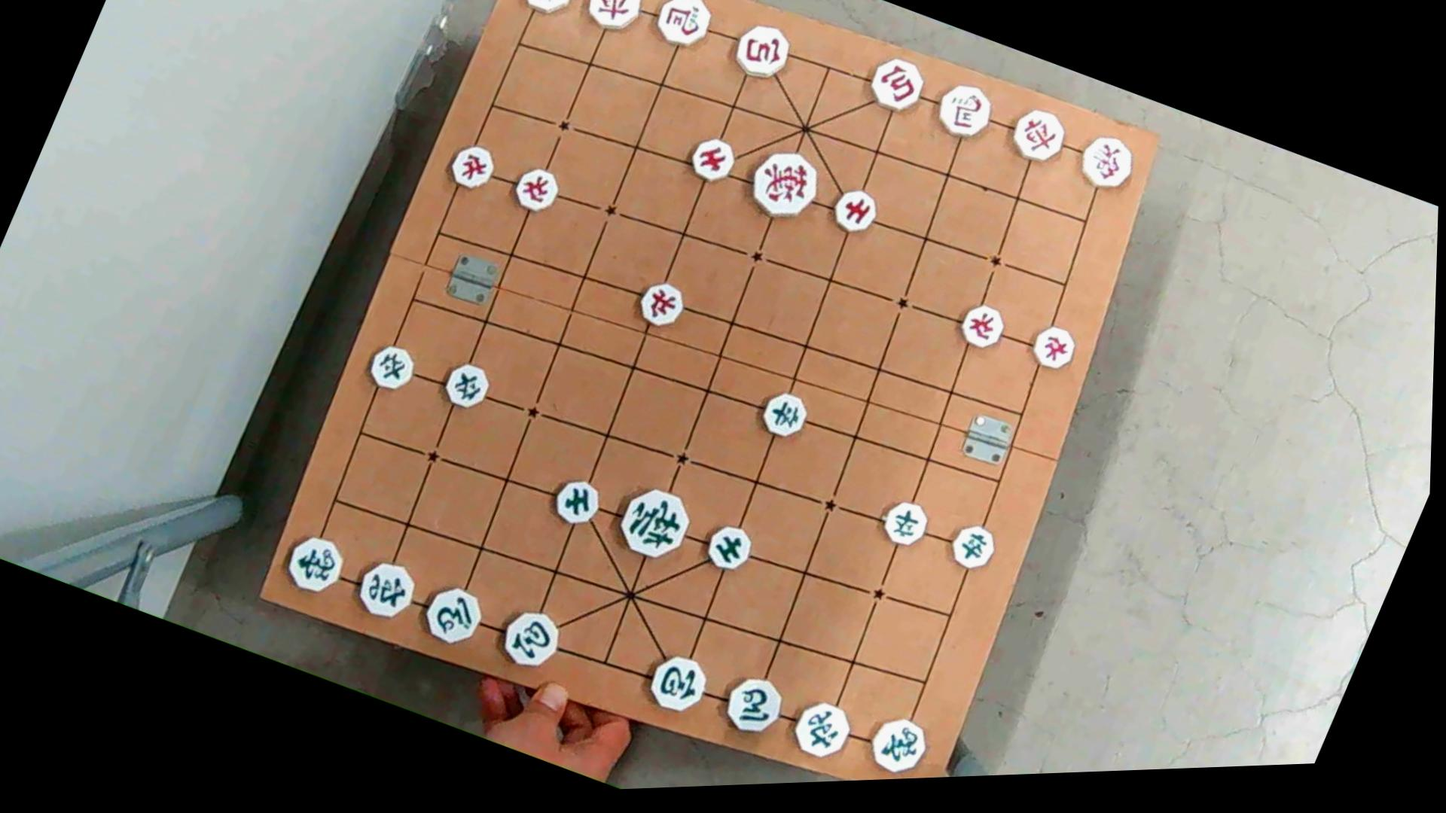cha_green: (349, 551, 423, 624), (785, 694, 857, 763)
cha_red: (1001, 105, 1073, 170), (577, 0, 649, 38)
jol_green: (753, 387, 815, 443), (875, 495, 935, 550), (937, 516, 996, 571), (435, 360, 493, 414), (362, 341, 419, 395)
jol_red: (629, 274, 691, 333), (505, 161, 567, 218), (444, 139, 500, 196), (951, 300, 1009, 353), (1023, 322, 1081, 375)
ma_green: (718, 671, 791, 741), (416, 582, 489, 651)
ma_red: (929, 80, 1002, 145), (648, 0, 719, 53)
po_green: (494, 605, 567, 676), (643, 650, 712, 719)
po_red: (728, 18, 800, 85), (859, 54, 931, 120)
sa_green: (698, 520, 756, 579), (548, 474, 605, 531)
sa_red: (682, 132, 742, 186), (825, 187, 884, 240)
sang_green: (279, 531, 352, 601), (859, 710, 932, 779)
sang_red: (1066, 131, 1139, 196), (513, 0, 584, 21)
wang_green: (607, 480, 699, 568)
wang_red: (740, 142, 828, 224)
